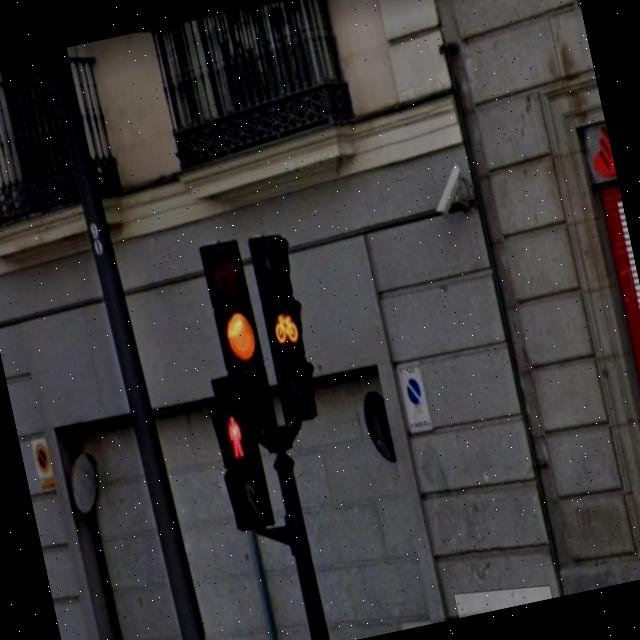yellow_light: (200, 239, 280, 445)
